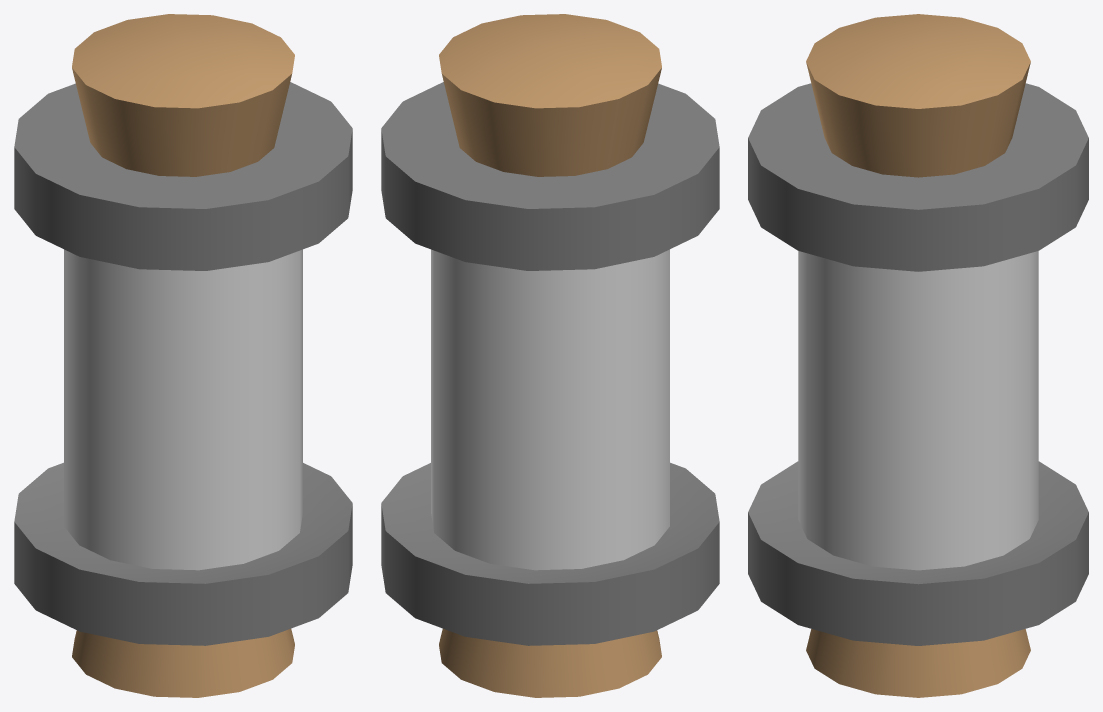
Rendered from Flask.fbx.
The picture shows the model from 3 angles, left to right: view 1: azimuth 30°, elevation 25°; view 2: azimuth 150°, elevation 25°; view 3: azimuth 270°, elevation 25°; orthographic projection.
Parts seen in each view (by area): view 1: Flask; view 2: Flask; view 3: Flask.
Part boxes in pixels (x1,y1,x2,y2): Flask: (14,14,352,697); Flask: (381,14,719,697); Flask: (748,14,1088,697).
Bounding box in the file's own units: 142 × 282 × 142.
